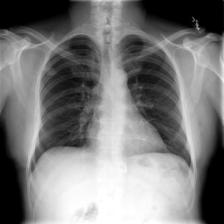normal: (27, 30, 197, 179)
